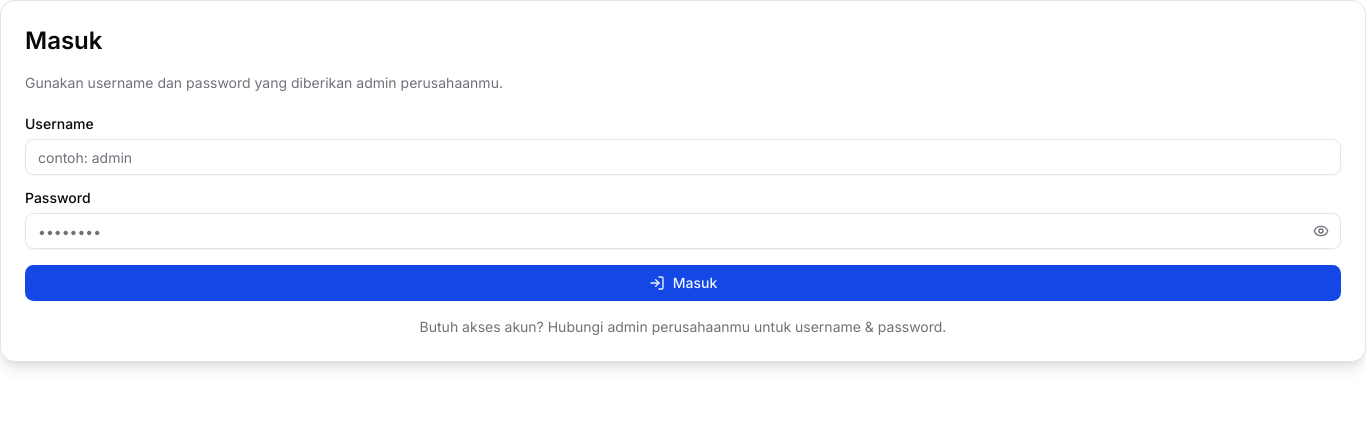
LoginForm › validates required fields
Click the button "Masuk". click: [683, 283]
box: [25, 265, 1341, 301]
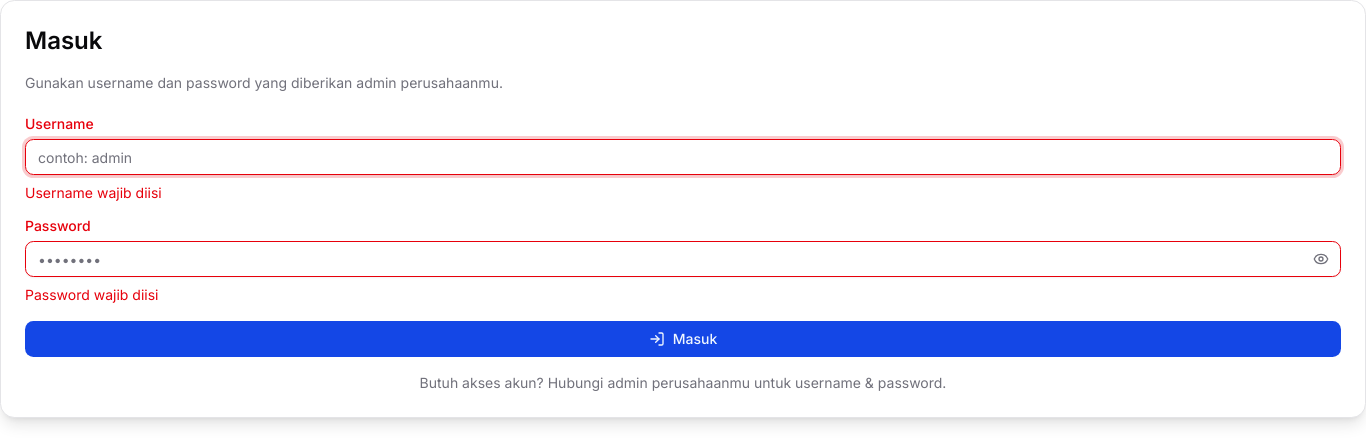
Result: the text "Username wajib diisi" is shown at [25, 184, 162, 201]
Result: the text "Password wajib diisi" is shown at [25, 286, 158, 303]
